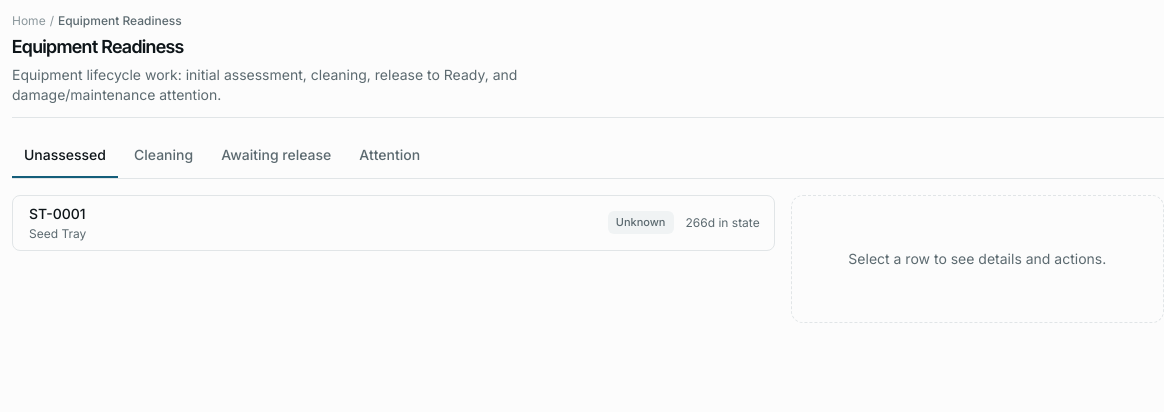
Scenario: EquipmentCleaningQueuePage: durable views over the real lifecycle states › cleaning-required UNKNOWN row's inspector never offers Mark Ready
Click the button "ST-0001 Seed Tray" at coordinates (57, 213), box [29,204,596,242]
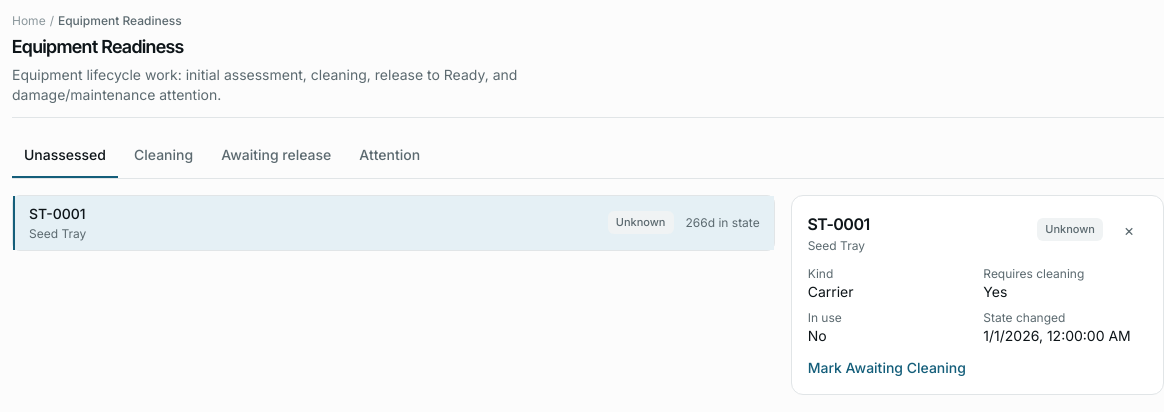
Result: the link "Mark Awaiting Cleaning" is shown at [808,358,966,376]
